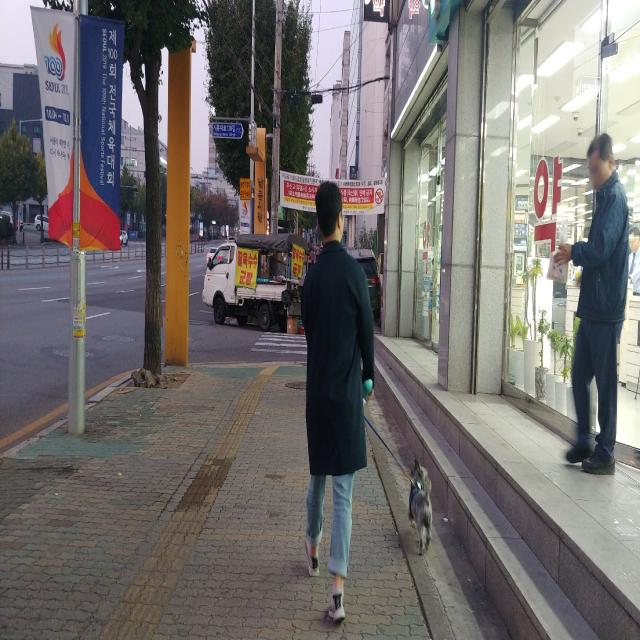횡단보도: (251, 331, 308, 355)
